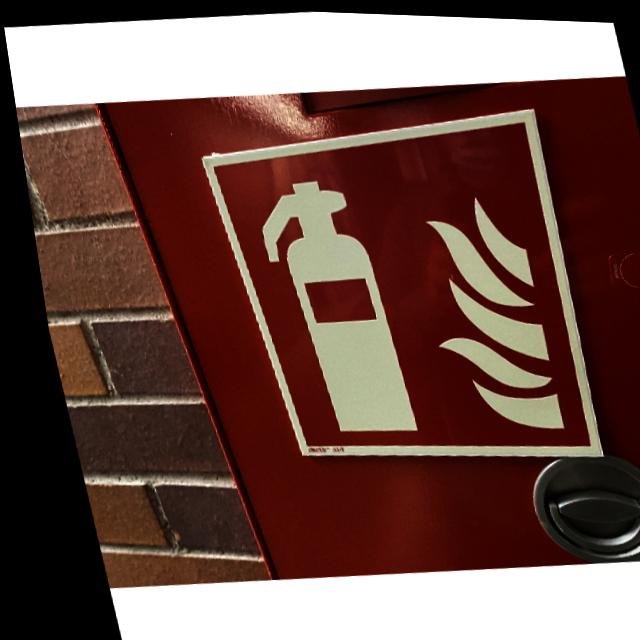fire extinguisher: (187, 94, 605, 482)
